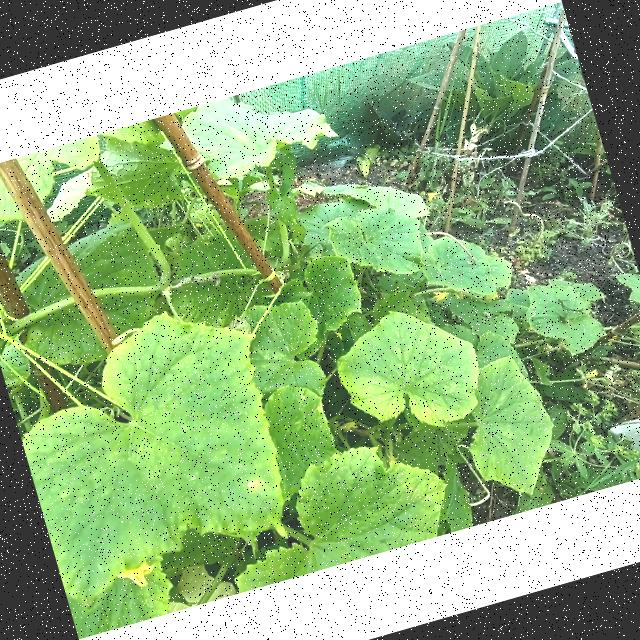Flowers: (110, 554, 160, 596), (334, 416, 362, 440), (428, 286, 452, 304), (424, 188, 440, 205), (584, 366, 600, 380)
